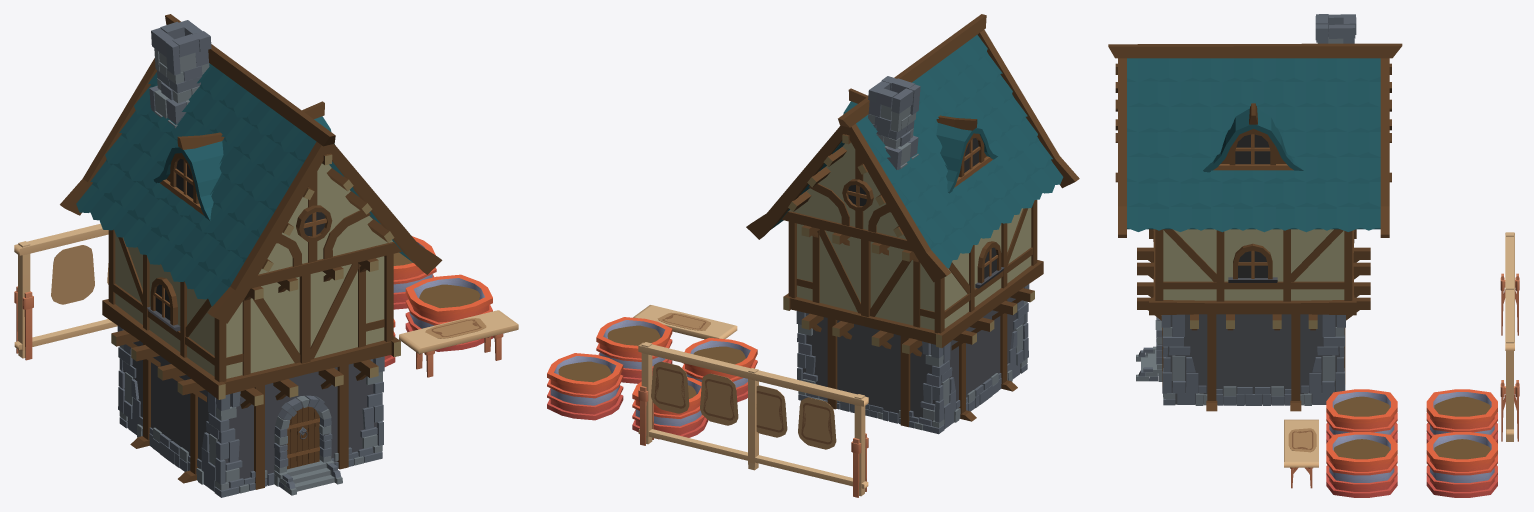
Rendered from london_bld_tannery.glb.
The picture shows the model from 3 angles, left to right: view 1: azimuth 30°, elevation 25°; view 2: azimuth 150°, elevation 25°; view 3: azimuth 270°, elevation 25°; orthographic projection. The views are drawn at different scales.
Visible parts, largest first — view 1: House_1, Wood_Plank_A (×4), barrel-open (×2), Derived leather hide (×2), Tanning bath surface 6 -1, wood-support; view 2: House_1, barrel-open (×4), Wood_Plank_A (×6), Derived leather hide (×5), Tanning bath surface 6 -5, Tanning bath surface 6 -1, Tanning bath surface 2 -1; view 3: House_1, barrel-open (×4), Wood_Plank_A (×3), Tanning bath surface 6 -5, Tanning bath surface 6 -1, Tanning bath surface 2 -5, Tanning bath surface 2 -1, Derived leather hide.
Part boxes in pixels (box(x1,y1,x2,y2)): House_1: box(60, 14, 442, 497); Wood_Plank_A (×4): box(14, 223, 518, 358); barrel-open (×2): box(393, 236, 492, 351); Derived leather hide (×2): box(51, 245, 486, 338); Tanning bath surface 6 -1: box(419, 284, 479, 308); wood-support: box(14, 286, 33, 360); House_1: box(746, 14, 1079, 434); barrel-open (×4): box(547, 317, 757, 439); Wood_Plank_A (×6): box(633, 305, 868, 496); Derived leather hide (×5): box(651, 312, 836, 449); Tanning bath surface 6 -5: box(558, 361, 611, 382); Tanning bath surface 6 -1: box(607, 325, 660, 345); Tanning bath surface 2 -1: box(693, 346, 745, 364); House_1: box(1108, 14, 1402, 411); barrel-open (×4): box(1326, 389, 1497, 497); Wood_Plank_A (×3): box(1284, 232, 1514, 467); Tanning bath surface 6 -5: box(1434, 439, 1490, 459); Tanning bath surface 6 -1: box(1334, 439, 1389, 459); Tanning bath surface 2 -5: box(1434, 396, 1490, 416); Tanning bath surface 2 -1: box(1334, 396, 1389, 416); Derived leather hide: box(1288, 428, 1316, 452).
Bounding box in the file's own units: 16.74 × 14.92 × 16.37.
15 materials, 3 textured.
